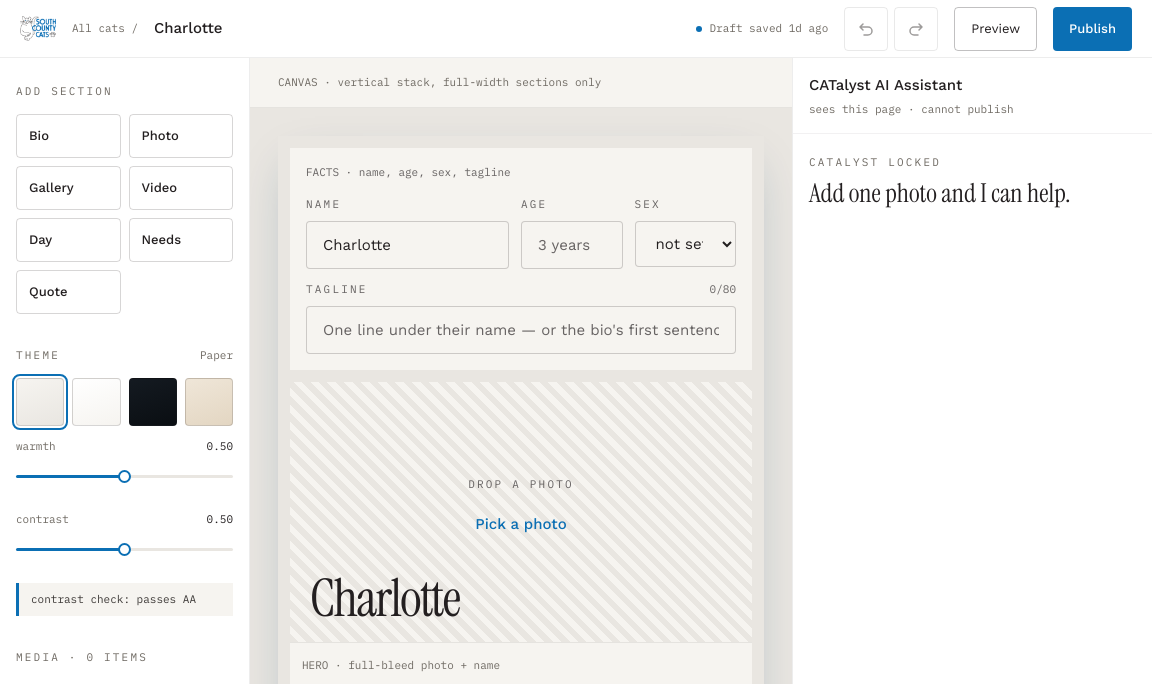
Builder › keeps the page and shows the server's sentence when the save is refused (FR-027)
Click the button "Bio": (68, 136) [16,114,120,158]
Wait 1000 ms
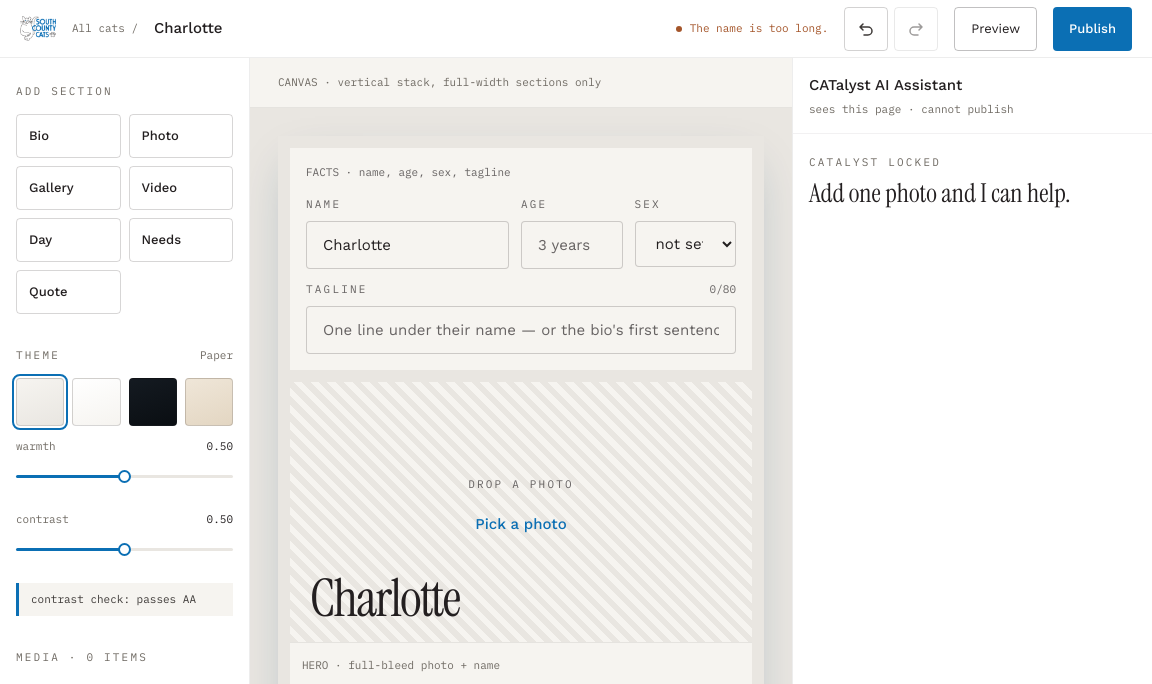
Expected: the text "The name is too long." is shown, [690,20,828,37]
